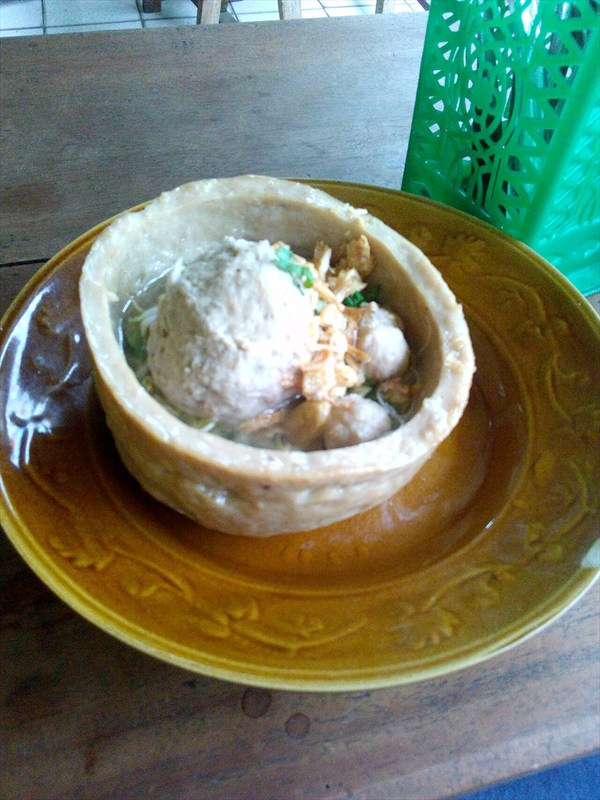Bakso: (12, 45, 576, 668)
